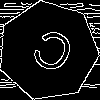C: (23, 26, 78, 84)
